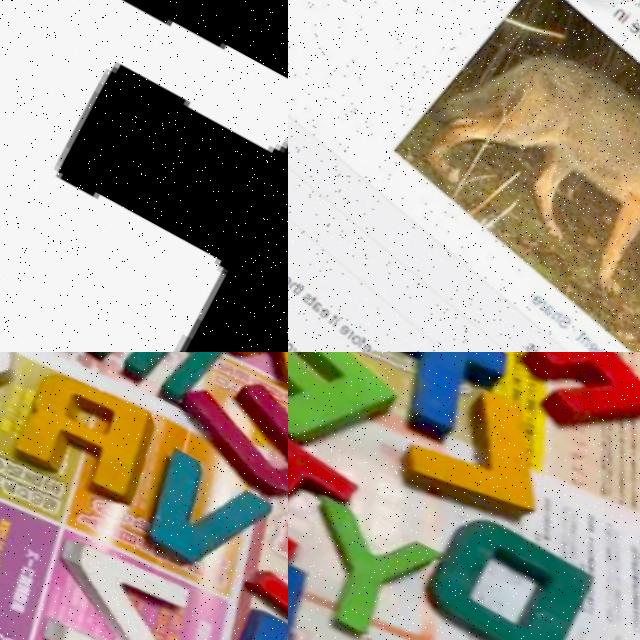D: (406, 499, 595, 640)
E: (440, 352, 640, 455)
F: (0, 0, 288, 352), (288, 352, 402, 471)
I: (288, 392, 358, 577), (241, 511, 288, 640)
L: (386, 366, 580, 547)
M: (75, 352, 242, 417)
R: (0, 358, 167, 511)
T: (338, 352, 521, 460)
U: (160, 358, 288, 515)
V: (123, 448, 286, 598)
X: (198, 352, 288, 402)
Y: (288, 495, 446, 640)
Z: (24, 528, 211, 640)
